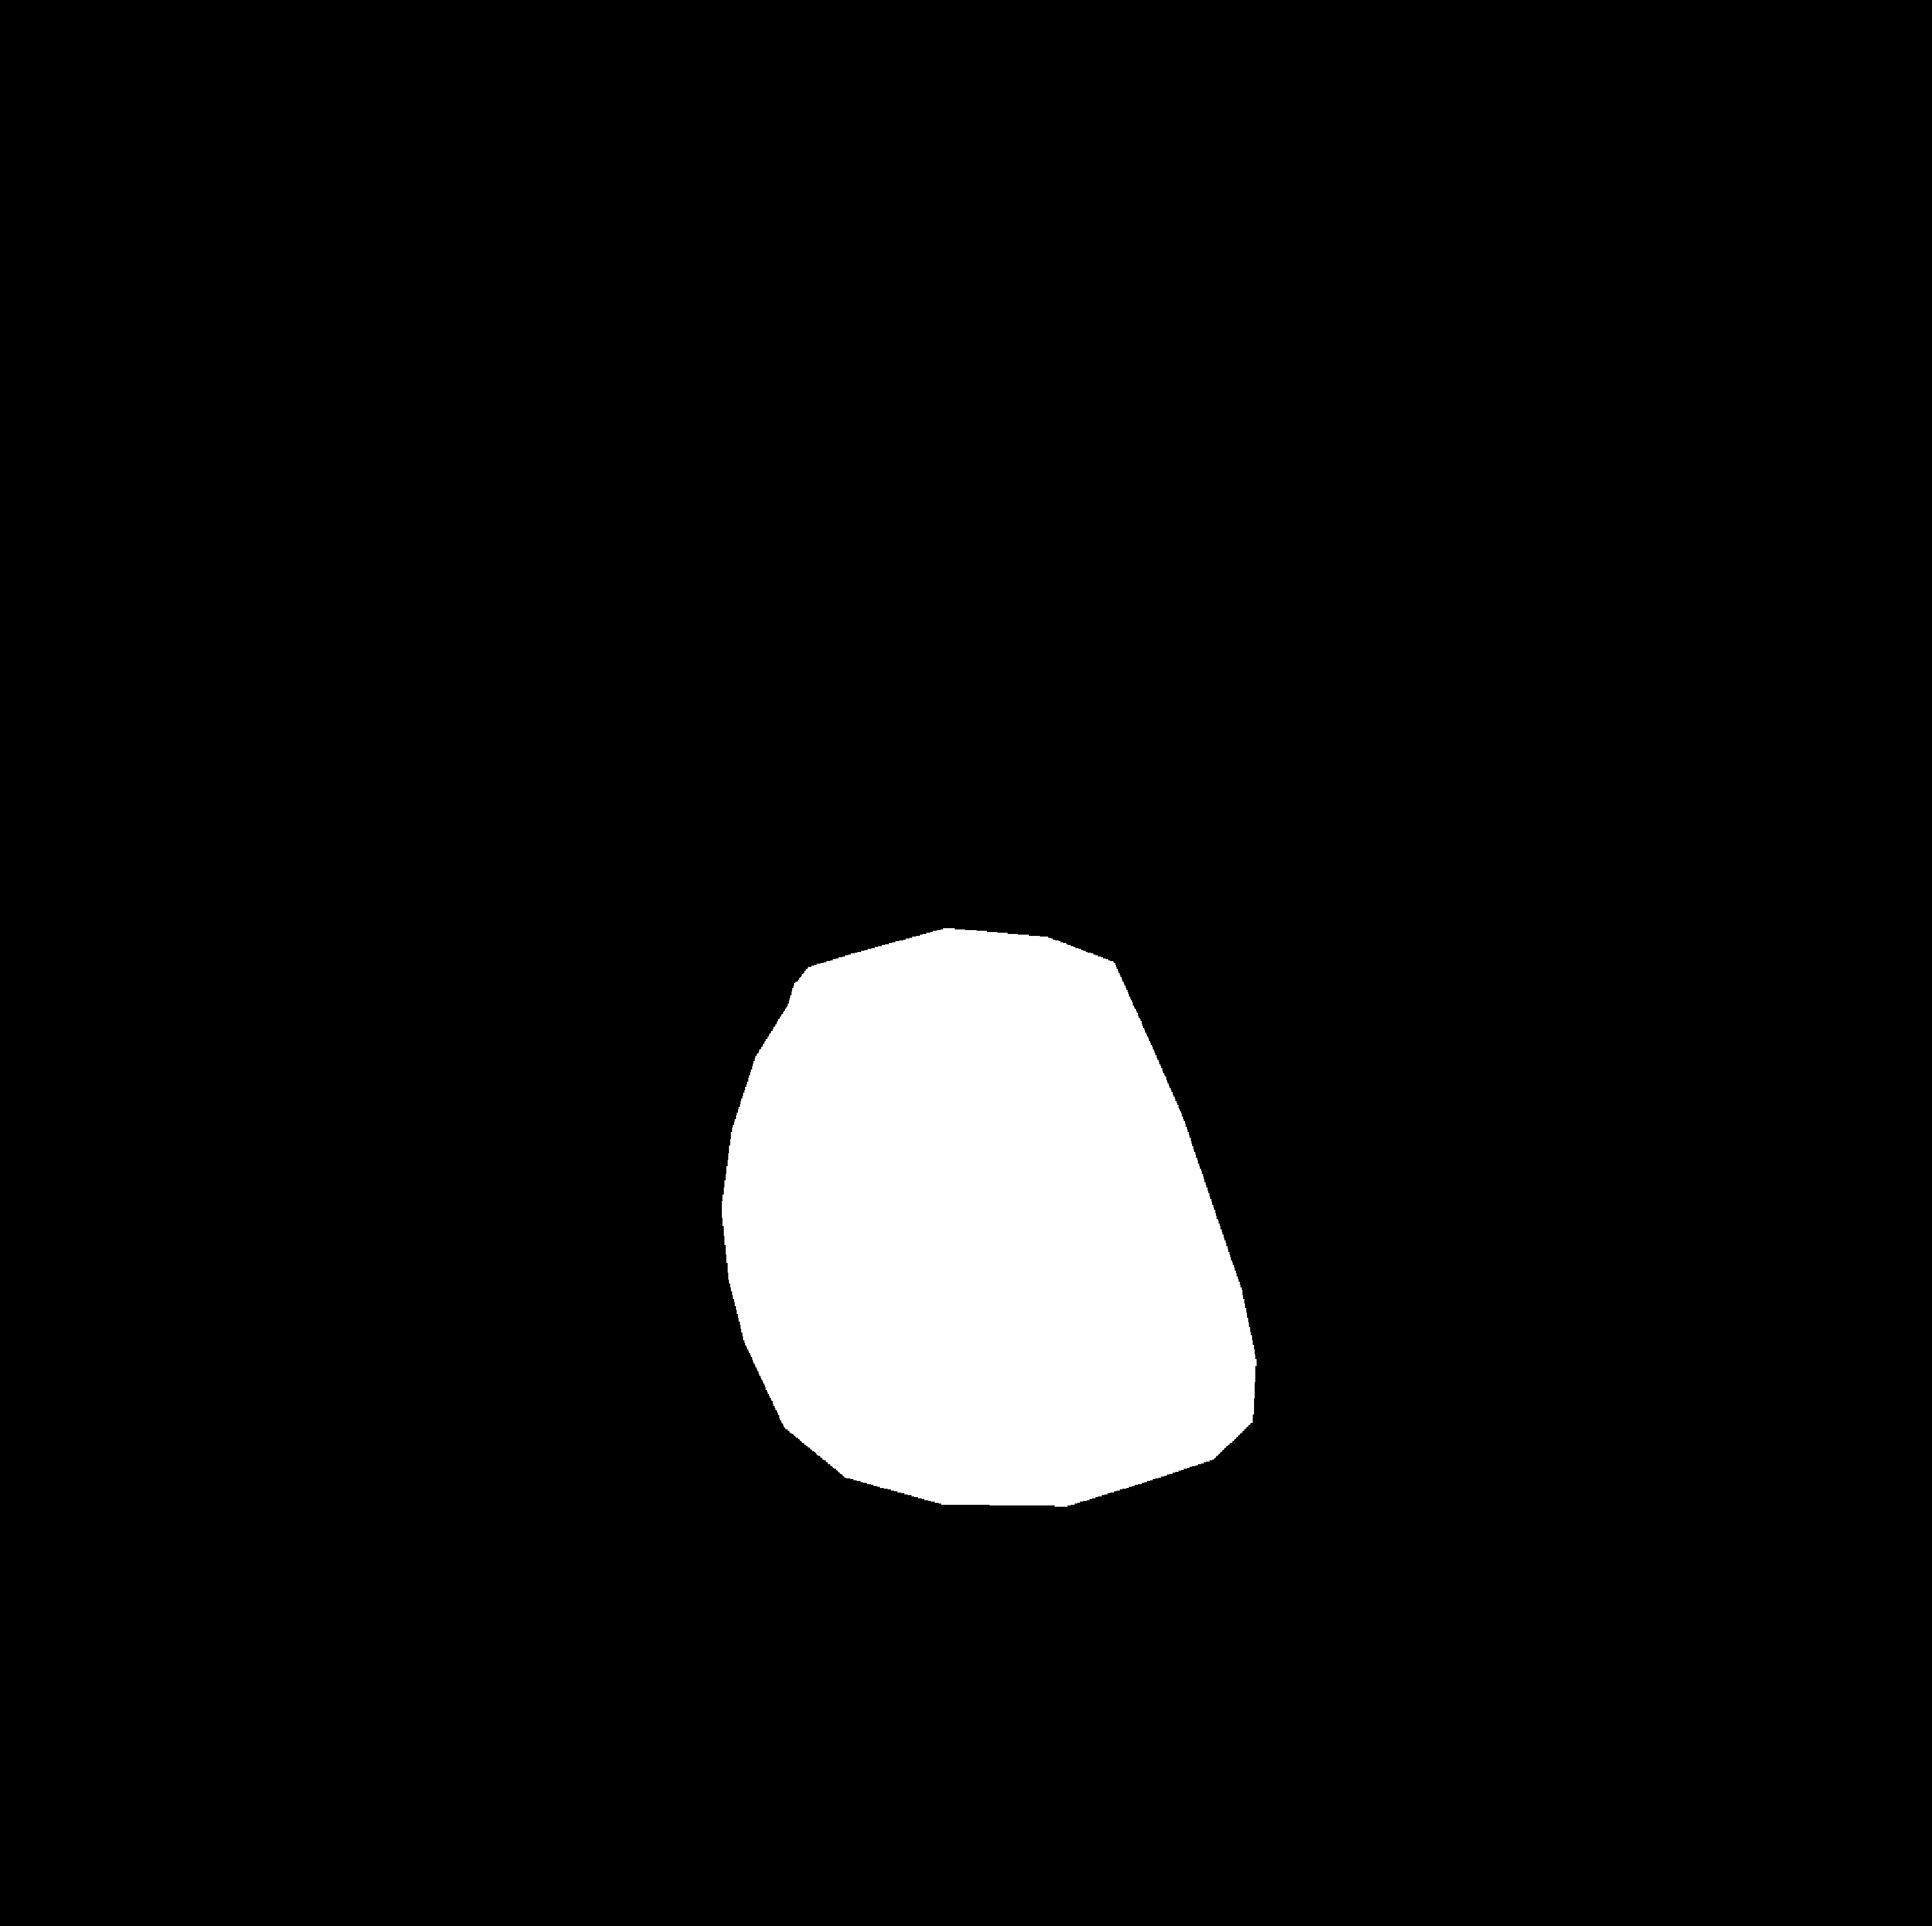heart: (722, 1011, 1258, 1487)
left_lung: (339, 346, 887, 1794)
right_lung: (1009, 372, 1556, 1785)
